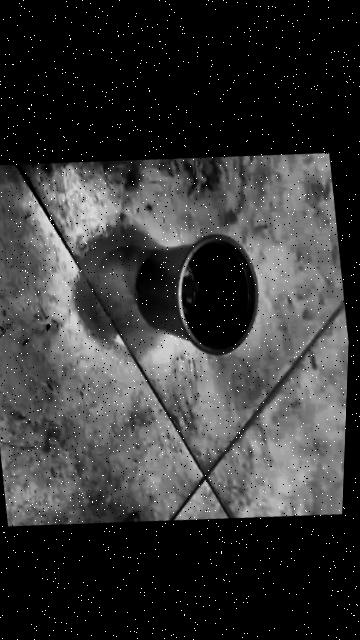pot: (126, 219, 269, 369)
